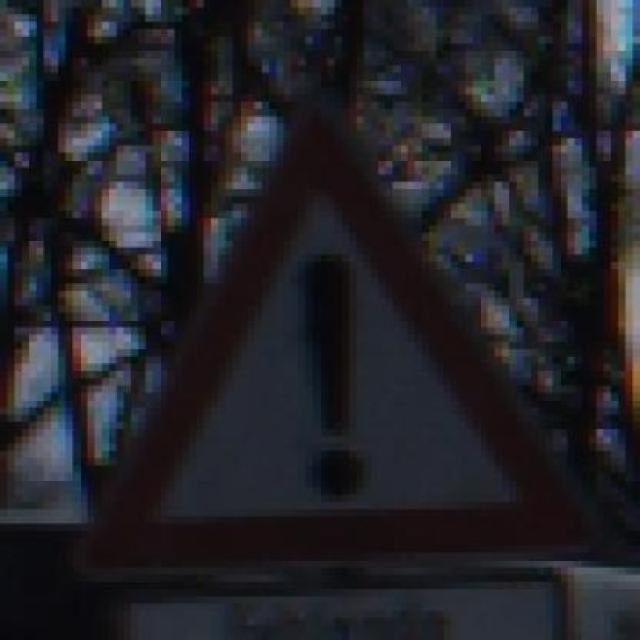Attention Please-: (58, 108, 590, 574)
